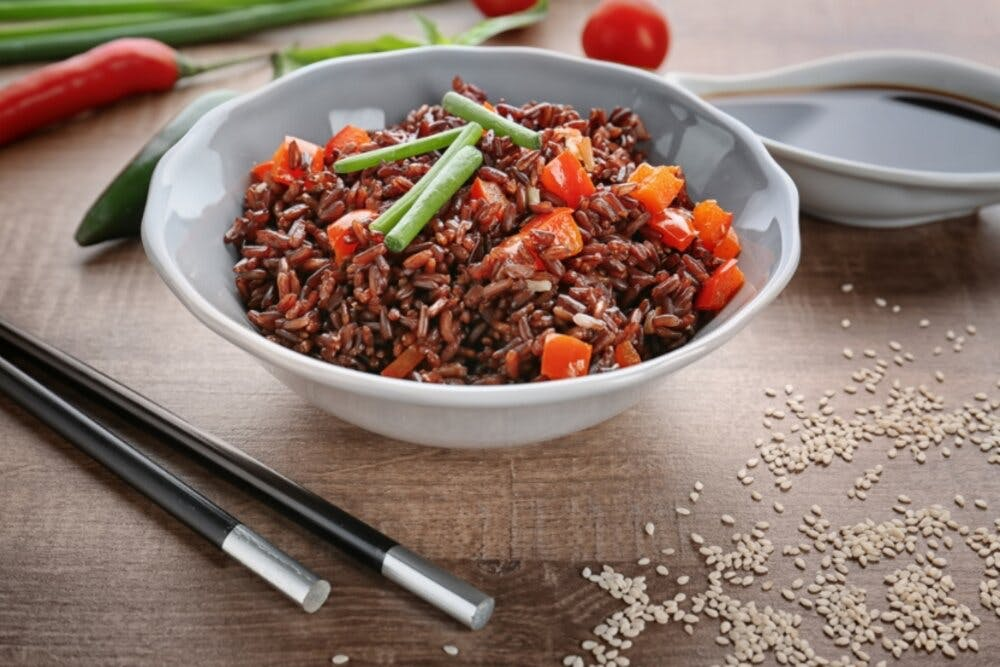Nasi Merah: (217, 72, 715, 417)
